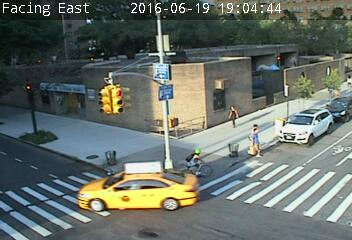neg: (121, 154, 149, 192), (184, 145, 210, 180), (71, 146, 96, 180), (299, 153, 321, 182), (219, 191, 240, 220)
pos: (242, 120, 270, 158), (221, 101, 241, 127)
